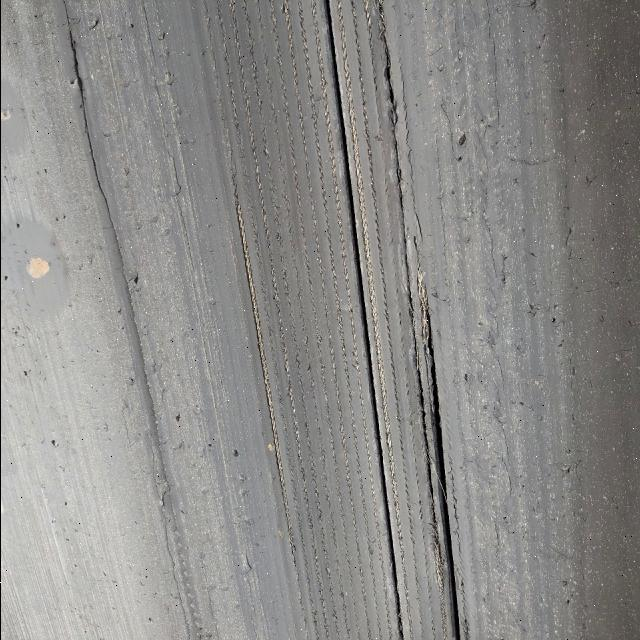Tear: (317, 0, 409, 640), (370, 0, 446, 557), (418, 292, 470, 639), (53, 0, 115, 208)
Wear: (200, 0, 404, 640)
